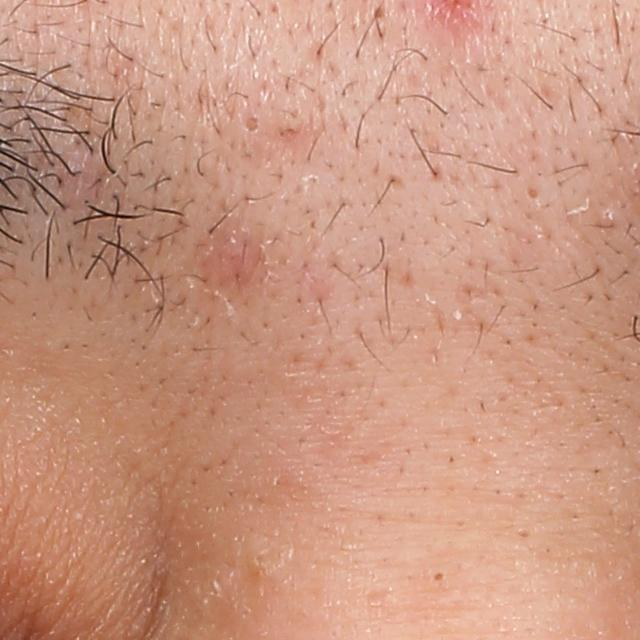comedo: (243, 114, 265, 136), (524, 180, 544, 203), (370, 3, 388, 21), (432, 566, 450, 584)
